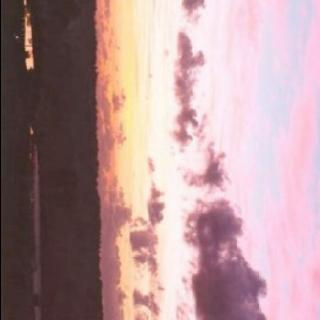Stratocumulus: (77, 0, 320, 320)
